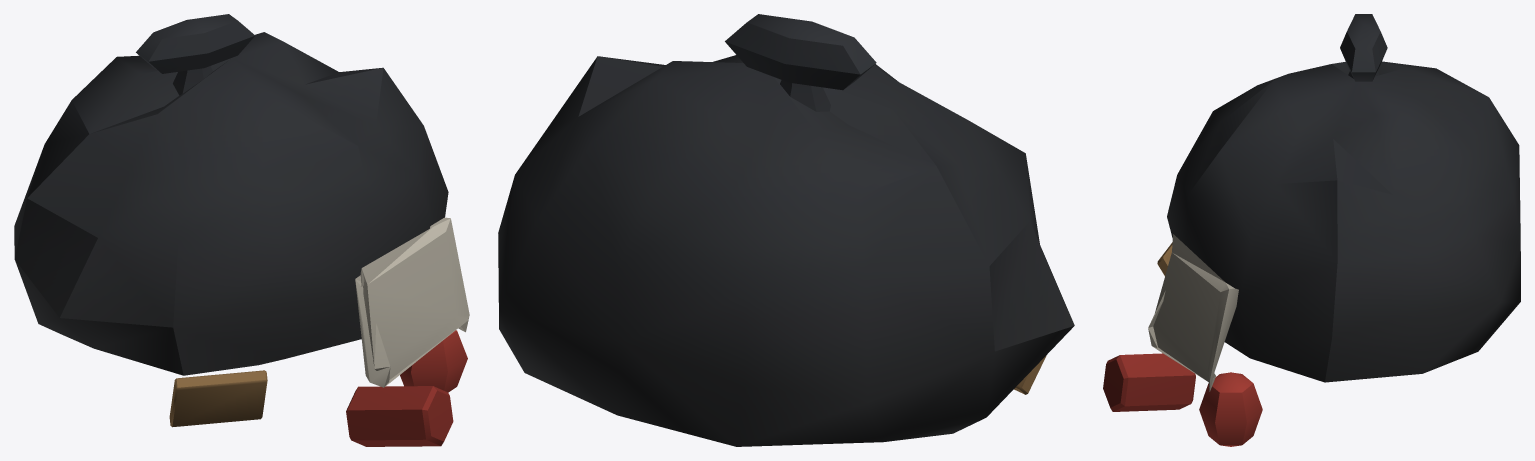
File: 05c_sac_poubelle.fbx
3 renders of one model, left to right at view 1: azimuth 30°, elevation 25°; view 2: azimuth 150°, elevation 25°; view 3: azimuth 270°, elevation 25°, orthographic. The views are drawn at different scales.
Parts seen in each view (by area): view 1: Sac; view 2: Sac; view 3: Sac.
Part boxes in pixels (left/top/right/bottom): Sac: left=14, top=14, right=469, bottom=446; Sac: left=498, top=14, right=1074, bottom=446; Sac: left=1103, top=14, right=1520, bottom=446.
Size of the model in its own units: 0.42 by 0.364 by 0.392.
Materials: 1 (1 with a texture image).
